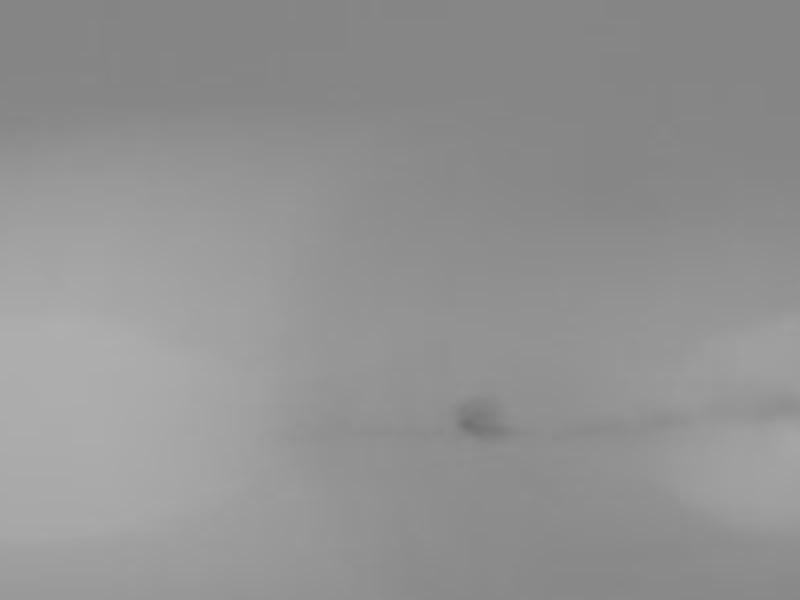defect: (458, 396, 505, 438)
